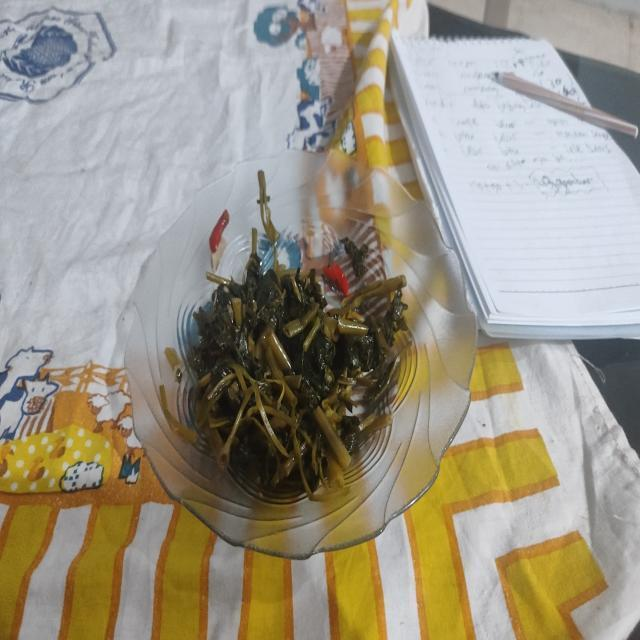tumis_kangkung: (190, 222, 407, 494)
